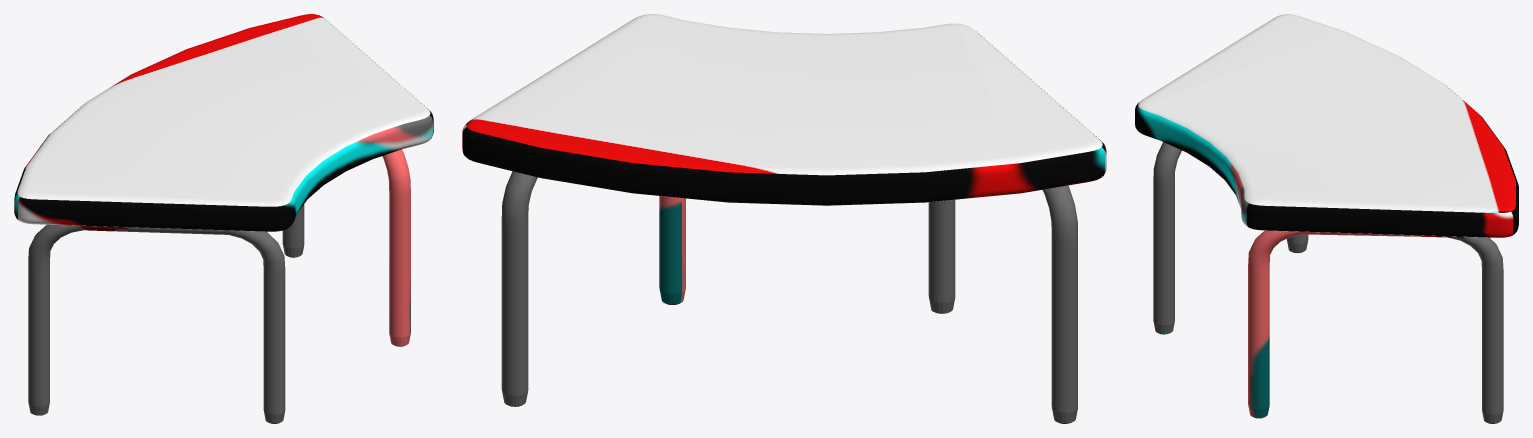
File: mesa redondo.fbx
3 renders of one model, left to right at view 1: azimuth 30°, elevation 25°; view 2: azimuth 150°, elevation 25°; view 3: azimuth 270°, elevation 25°, orthographic. The views are drawn at different scales.
Visible parts, largest first — view 1: Cylinder001, Cylinder005, Cylinder002; view 2: Cylinder001, Cylinder005, Cylinder002; view 3: Cylinder001, Cylinder002, Cylinder005.
Boxes of the visible parts, bbox=[...] form: Cylinder001: bbox=[14, 14, 433, 231]; Cylinder005: bbox=[28, 224, 285, 423]; Cylinder002: bbox=[282, 149, 410, 346]; Cylinder001: bbox=[462, 14, 1106, 205]; Cylinder005: bbox=[928, 185, 1077, 423]; Cylinder002: bbox=[501, 171, 685, 406]; Cylinder001: bbox=[1135, 14, 1518, 237]; Cylinder002: bbox=[1248, 230, 1503, 423]; Cylinder005: bbox=[1153, 142, 1308, 334].
Size of the model in its own units: 322 by 168 by 259.
